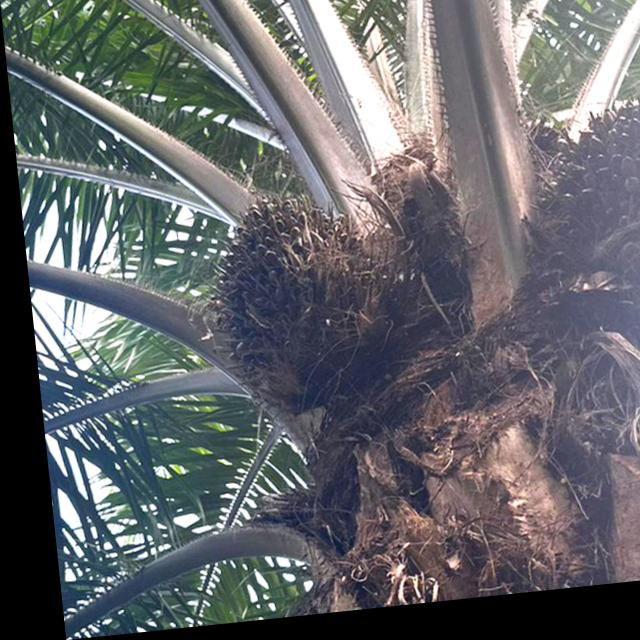unripe: (191, 187, 405, 393), (520, 101, 640, 324)
